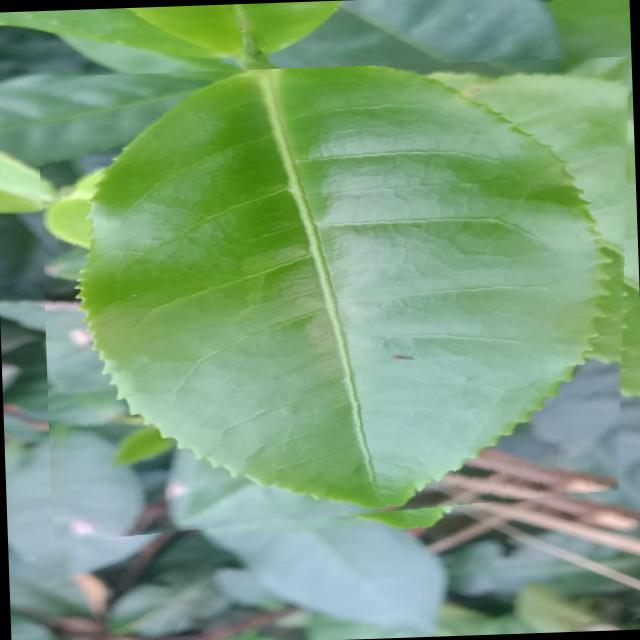Category B(2-4 days): (36, 55, 640, 543), (64, 76, 114, 90)
